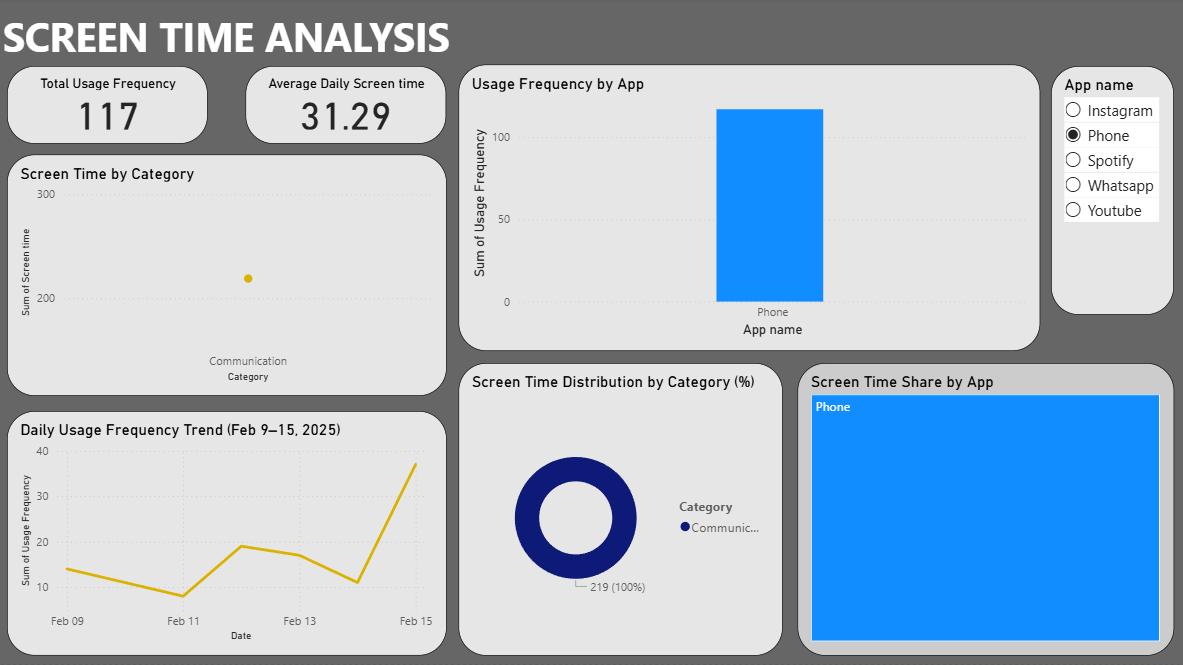

The dashboard page shown, as its layout file describes it:
{"tool":"powerbi","page":{"name":"Page 1","canvas":[1280,720],"ordinal":0},"visuals":[{"type":"lineChart","fields":{"Category":["Table 1 (Sheet1).Date"],"Y":["Sum(Table 1 (Sheet1).Usage Frequency)"]},"box":[9.7,446.9,474.4,263.9],"z":0},{"type":"clusteredColumnChart","fields":{"Category":["Table 1 (Sheet1).App name"],"Y":["Sum(Table 1 (Sheet1).Usage Frequency)"]},"box":[497.1,72.9,631.5,270.4],"z":1000},{"type":"card","title":"Average Screen time","fields":{"Values":["Avg(Table 1 (Sheet1).Screen time)"]},"box":[267.2,74.5,217,103.6],"z":2000},{"type":"listSlicer","fields":{"Values":["Table 1 (Sheet1).App name"]},"box":[1139.9,74.5,129.5,268.8],"z":3000},{"type":"areaChart","fields":{"Category":["Table 1 (Sheet1).Category"],"Y":["Sum(Table 1 (Sheet1).Screen time)"]},"box":[9.7,184.6,474.4,246.1],"z":4000},{"type":"treemap","fields":{"Details":["Table 1 (Sheet1).App name"],"Values":["Sum(Table 1 (Sheet1).Screen time)"]},"box":[863,359.5,406.4,351.4],"z":5000},{"type":"card","title":"Total Usage Frequency","fields":{"Values":["Sum(Table 1 (Sheet1).Usage Frequency)"]},"box":[9.7,74.5,217,103.6],"z":6000},{"type":"textbox","box":[0,8.1,497.1,66.4],"z":7000},{"type":"donutChart","title":"Percentage of Total Screen time ","fields":{"Y":["Sum(Table 1 (Sheet1).Screen time)"],"Category":["Table 1 (Sheet1).Category"]},"box":[497.1,359.5,349.8,351.4],"z":8000}]}

Visuals, with their boxes in screenshot pixels (x1, y1, x2, y2), scaled from the page's 1280x720 canvas onto the 1183x665 screenshot:
lineChart - Table 1 (Sheet1).Date x Sum(Table 1 (Sheet1).Usage Frequency): 9, 413, 447, 657
clusteredColumnChart - Table 1 (Sheet1).App name x Sum(Table 1 (Sheet1).Usage Frequency): 459, 67, 1043, 317
"Average Screen time" card: 247, 69, 448, 164
listSlicer - Table 1 (Sheet1).App name: 1054, 69, 1173, 317
areaChart - Table 1 (Sheet1).Category x Sum(Table 1 (Sheet1).Screen time): 9, 170, 447, 398
treemap - Table 1 (Sheet1).App name x Sum(Table 1 (Sheet1).Screen time): 798, 332, 1173, 657
"Total Usage Frequency" card: 9, 69, 210, 164
textbox: 0, 7, 459, 69
"Percentage of Total Screen time " donutChart: 459, 332, 783, 657
